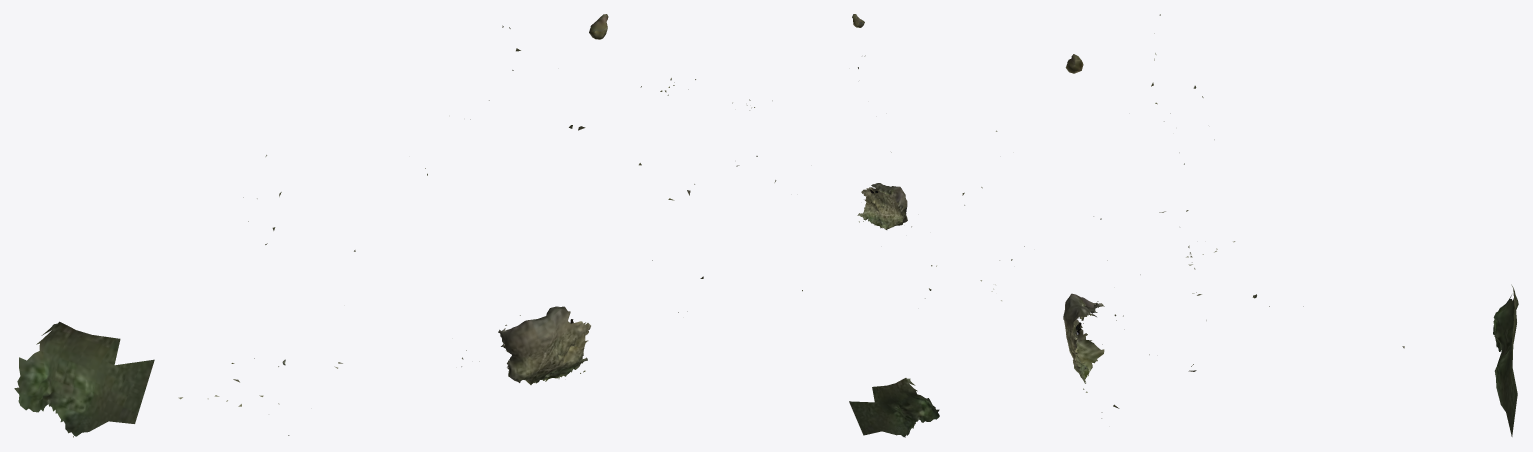
3 renders of one model, left to right at view 1: azimuth 30°, elevation 25°; view 2: azimuth 150°, elevation 25°; view 3: azimuth 270°, elevation 25°, orthographic. The views are drawn at different scales.
Bounding box in the file's own units: 10 × 9.44 × 7.83.
Materials: 1 (1 with a texture image).
